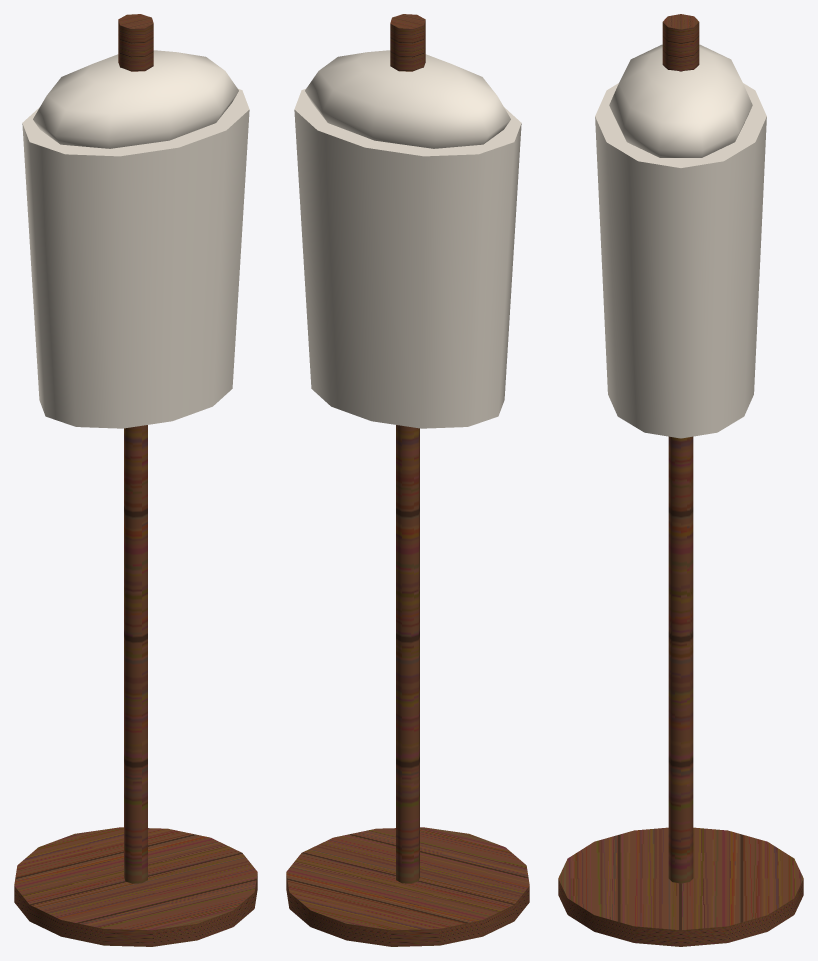
File: mannequin.glb
3 views of the same model, side by side, from view 1: azimuth 30°, elevation 25°; view 2: azimuth 150°, elevation 25°; view 3: azimuth 270°, elevation 25° (orthographic).
Parts seen in each view (by area): view 1: mannequin; view 2: mannequin; view 3: mannequin.
Part boxes in pixels (x1,y1,x2,y2): mannequin: (14,14,257,946); mannequin: (286,14,529,946); mannequin: (558,14,803,946).
Size of the model in its own units: 0.4 by 1.57 by 0.4.
2 materials, 1 textured.
